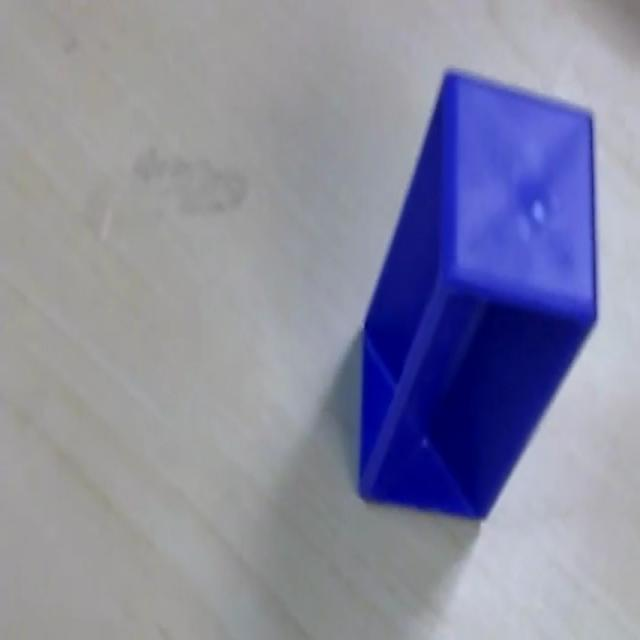blue_block: (356, 64, 600, 521)
